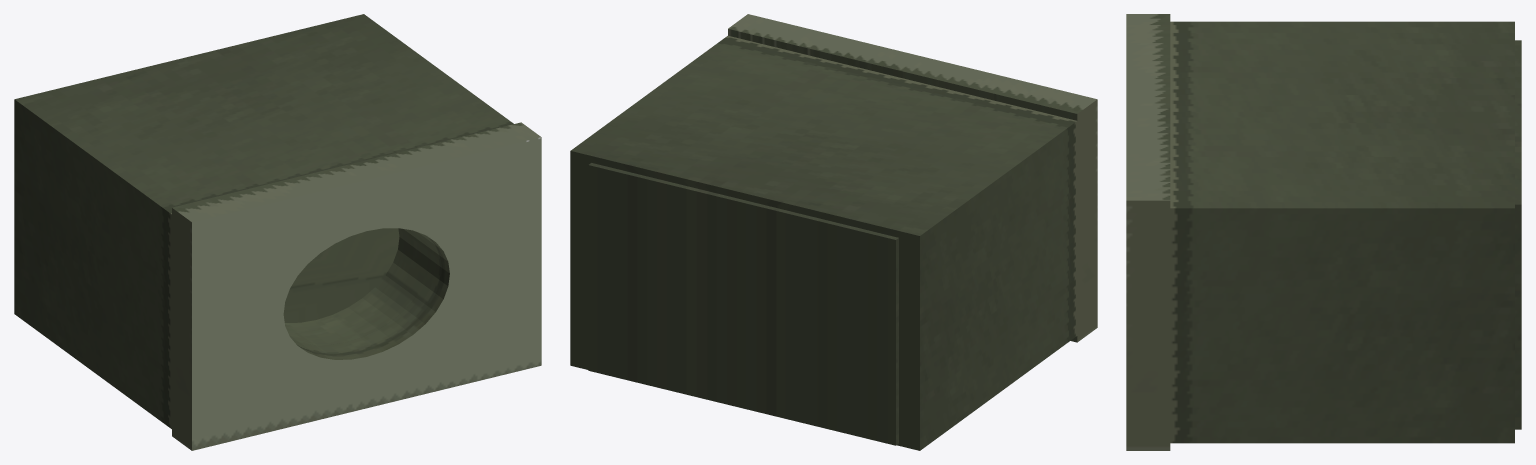
File: pz_counter_green_floor__sink_inset_oval.obj
3 views of the same model, side by side, from view 1: azimuth 30°, elevation 25°; view 2: azimuth 150°, elevation 25°; view 3: azimuth 270°, elevation 25° (orthographic). The views are drawn at different scales.
Size of the model in its own units: 1 by 0.6266 by 0.895.
Materials: 1 (1 with a texture image).
